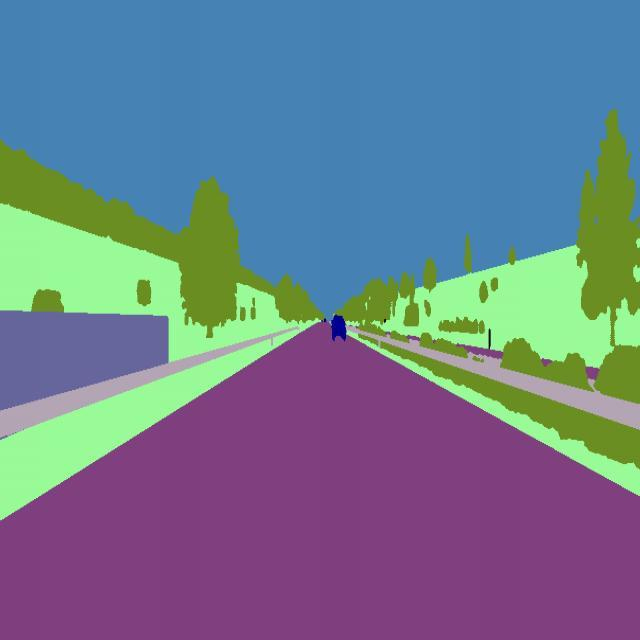safe: (328, 311, 351, 347)
